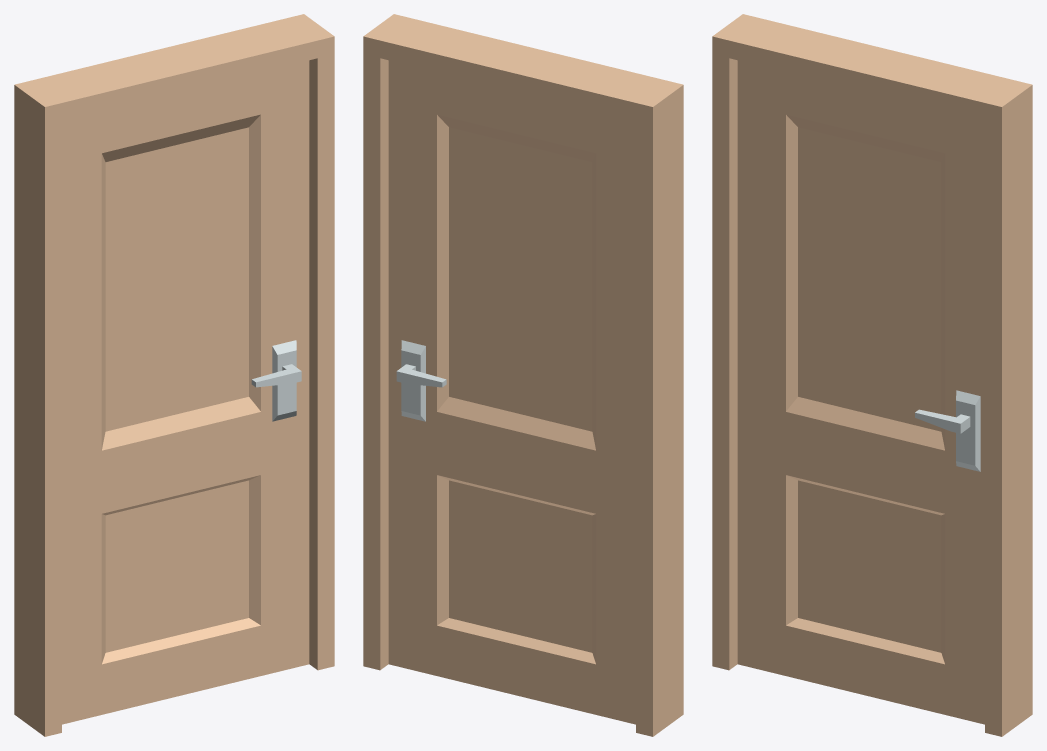
Rendered from doorway.glb.
The picture shows the model from 3 angles, left to right: view 1: azimuth 30°, elevation 25°; view 2: azimuth 150°, elevation 25°; view 3: azimuth 330°, elevation 25°; orthographic projection.
Parts seen in each view (by area): view 1: doorway; view 2: doorway; view 3: doorway.
Part boxes in pixels (x1,y1,x2,y2): doorway: (14, 14, 334, 736); doorway: (363, 14, 683, 736); doorway: (712, 14, 1032, 736).
Size of the model in its own units: 0.486 by 1.01 by 0.1134.
